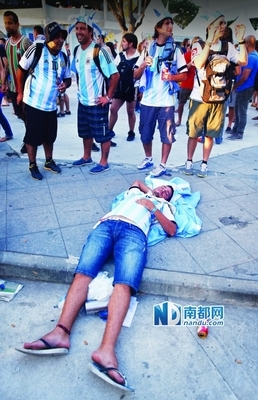10+: (1, 5, 258, 393)
down: (16, 175, 187, 389)
